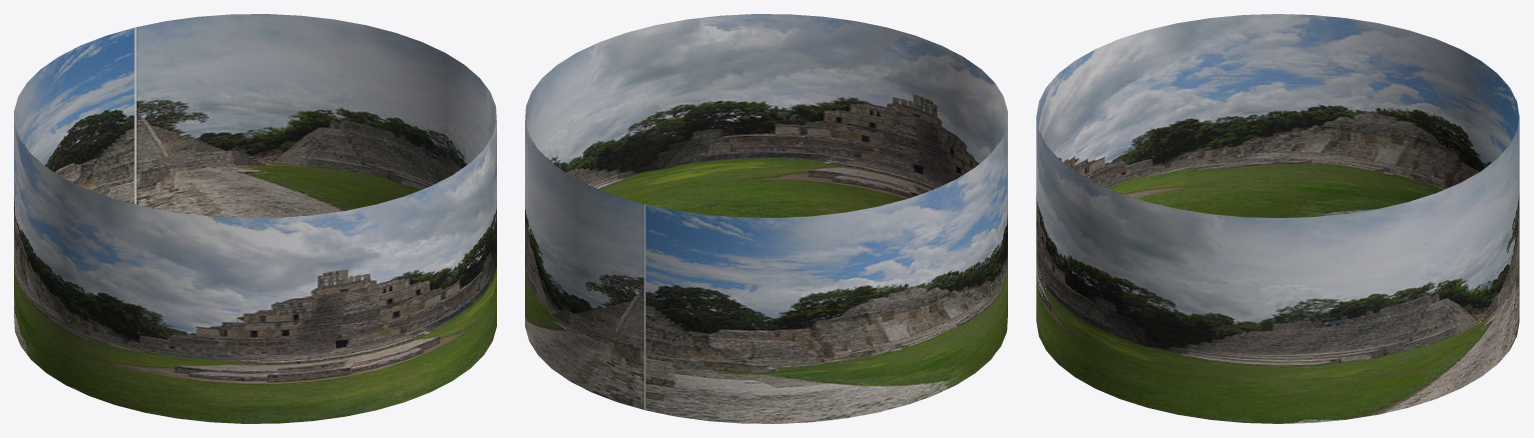
File: Cilindo.fbx
The picture shows the model from 3 angles, left to right: view 1: azimuth 30°, elevation 25°; view 2: azimuth 150°, elevation 25°; view 3: azimuth 270°, elevation 25°; orthographic projection.
Parts seen in each view (by area): view 1: Cylinder001; view 2: Cylinder001; view 3: Cylinder001.
Part boxes in pixels (box(x1,y1,x2,y2)): Cylinder001: box(14, 14, 496, 423); Cylinder001: box(525, 14, 1007, 423); Cylinder001: box(1036, 14, 1519, 423).
Bounding box in the file's own units: 5524 × 2598 × 5524.
1 material, 1 textured.
